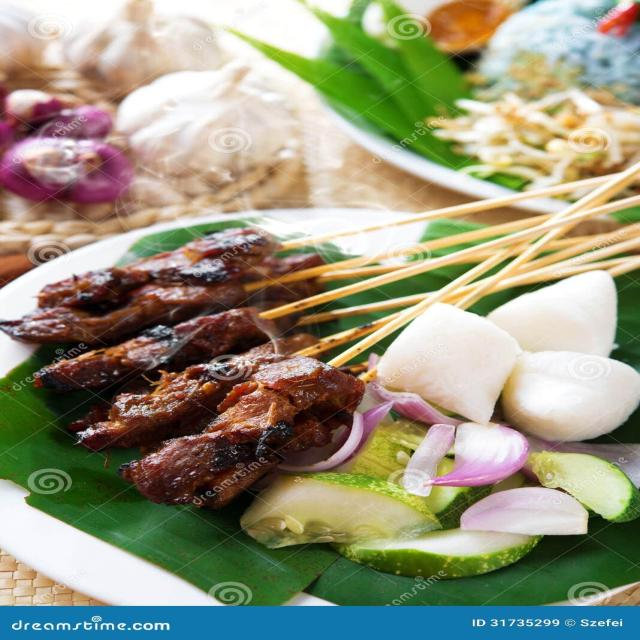Sate: (0, 203, 640, 481)
